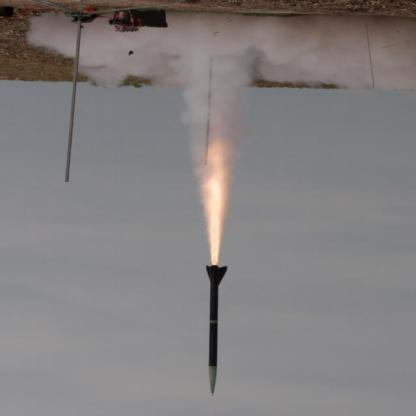MIL_TBM: (201, 258, 229, 397)
